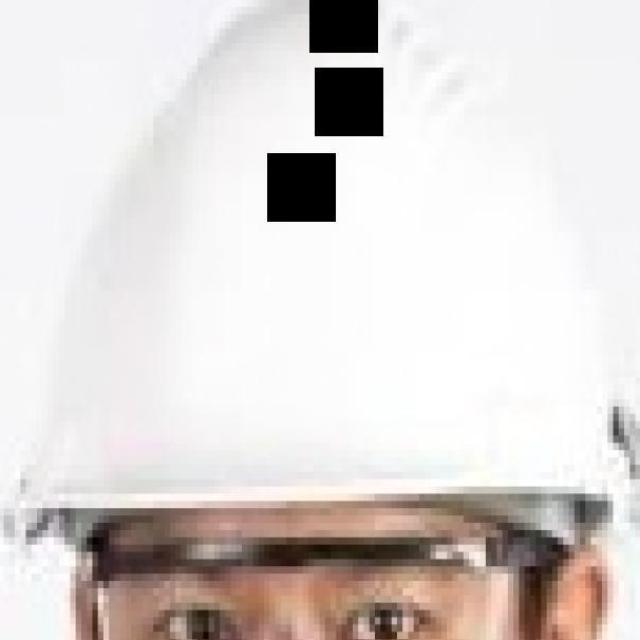helmet: (5, 0, 640, 548)
